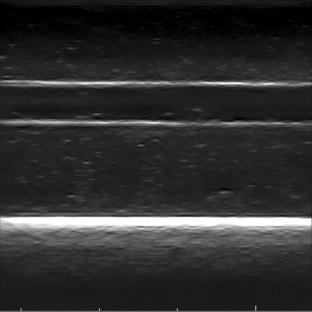vessel: (0, 77, 312, 129)
